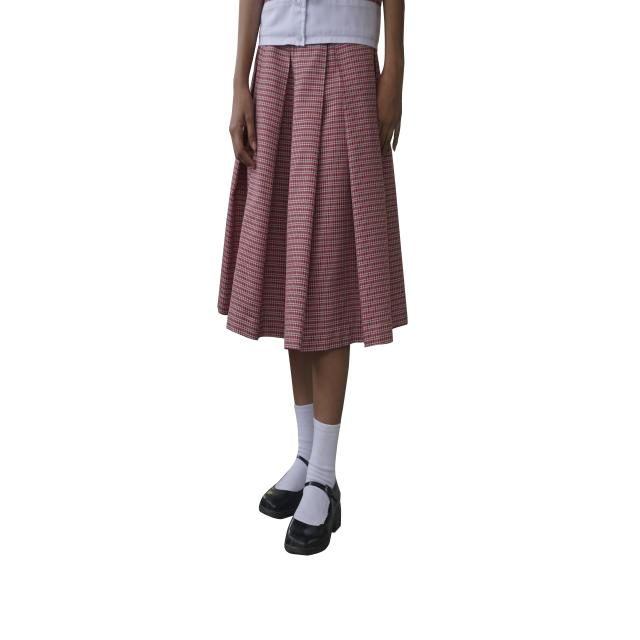shoes: (284, 481, 341, 555), (259, 486, 303, 519)
skirt: (218, 44, 407, 351)
